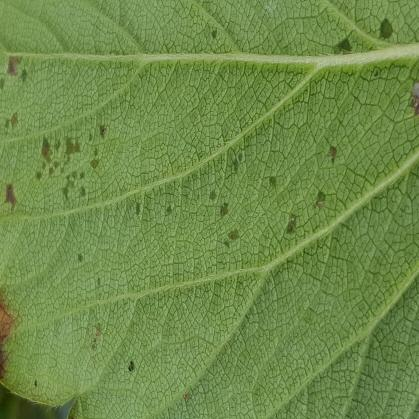Angular Leafspot: (0, 4, 418, 395)
